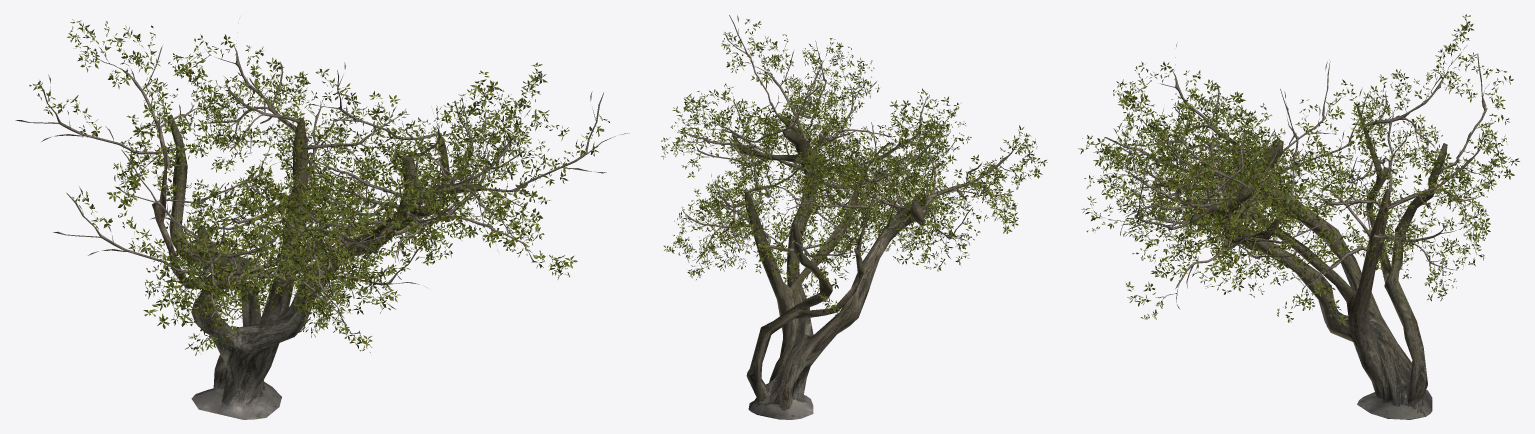
File: coastal-tree.glb
3 renders of one model, left to right at view 1: azimuth 30°, elevation 25°; view 2: azimuth 150°, elevation 25°; view 3: azimuth 270°, elevation 25°, orthographic. The views are drawn at different scales.
Visible parts, largest first — view 1: island_tree_02_LOD0; view 2: island_tree_02_LOD0; view 3: island_tree_02_LOD0.
Part boxes in pixels (left/top/right/bottom): island_tree_02_LOD0: left=15, top=19, right=629, bottom=419; island_tree_02_LOD0: left=661, top=15, right=1047, bottom=419; island_tree_02_LOD0: left=1078, top=14, right=1519, bottom=419.
Size of the model in its own units: 4.21 by 3.4 by 4.07.
3 materials, 3 textured.
